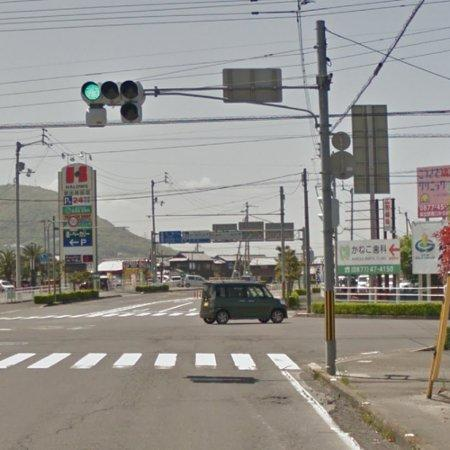crosswalk: (0, 351, 302, 371)
